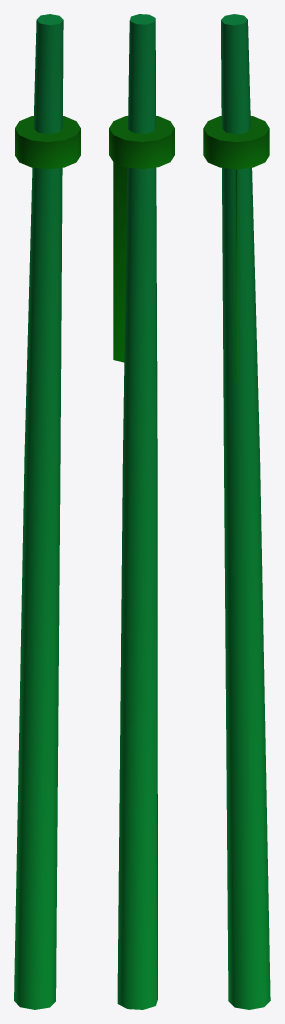
Rendered from rim_marker_pole.glb.
3 renders of one model, left to right at view 1: azimuth 90°, elevation 25°; view 2: azimuth 150°, elevation 25°; view 3: azimuth 270°, elevation 25°, orthographic.
Parts seen in each view (by area): view 1: rim_marker_pole; view 2: rim_marker_pole; view 3: rim_marker_pole.
Boxes of the visible parts, x1,y1,x2,y2 form: rim_marker_pole: (14, 14, 80, 1009); rim_marker_pole: (109, 14, 174, 1009); rim_marker_pole: (203, 14, 270, 1009).
Size of what is drawn, in the model's own units: 0.22 by 3.6 by 0.223.
